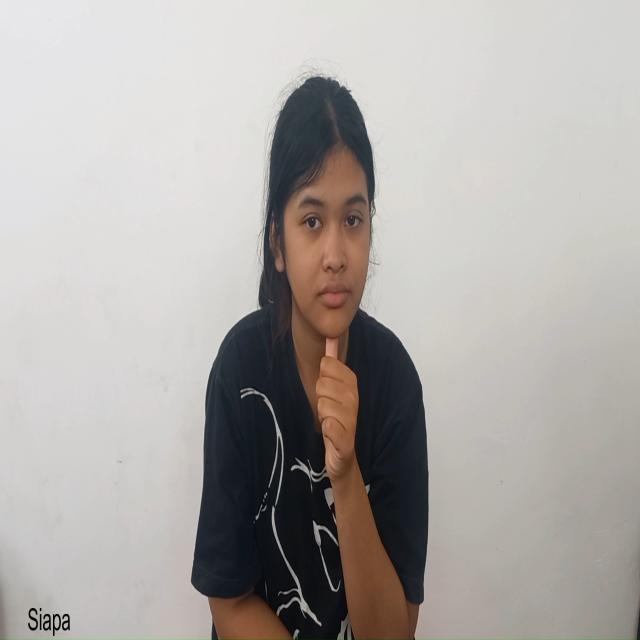Siapa -BISINDO-: (253, 67, 378, 496)
